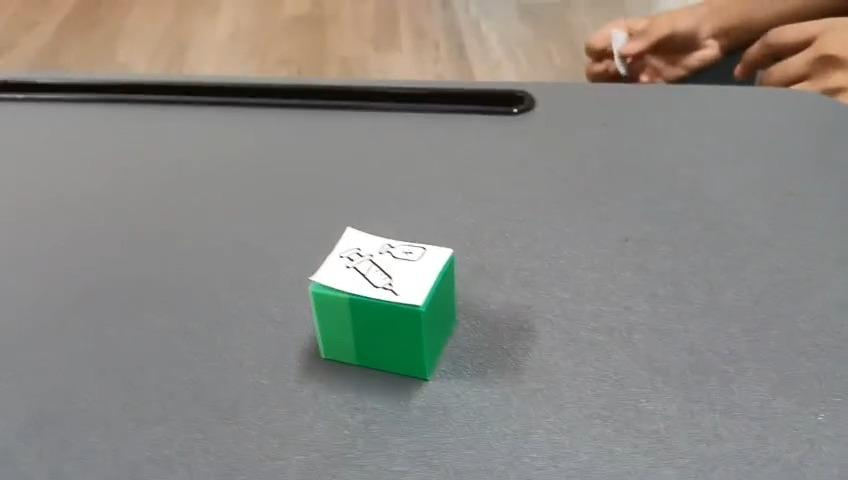antiseptic cream: (306, 224, 457, 381)
